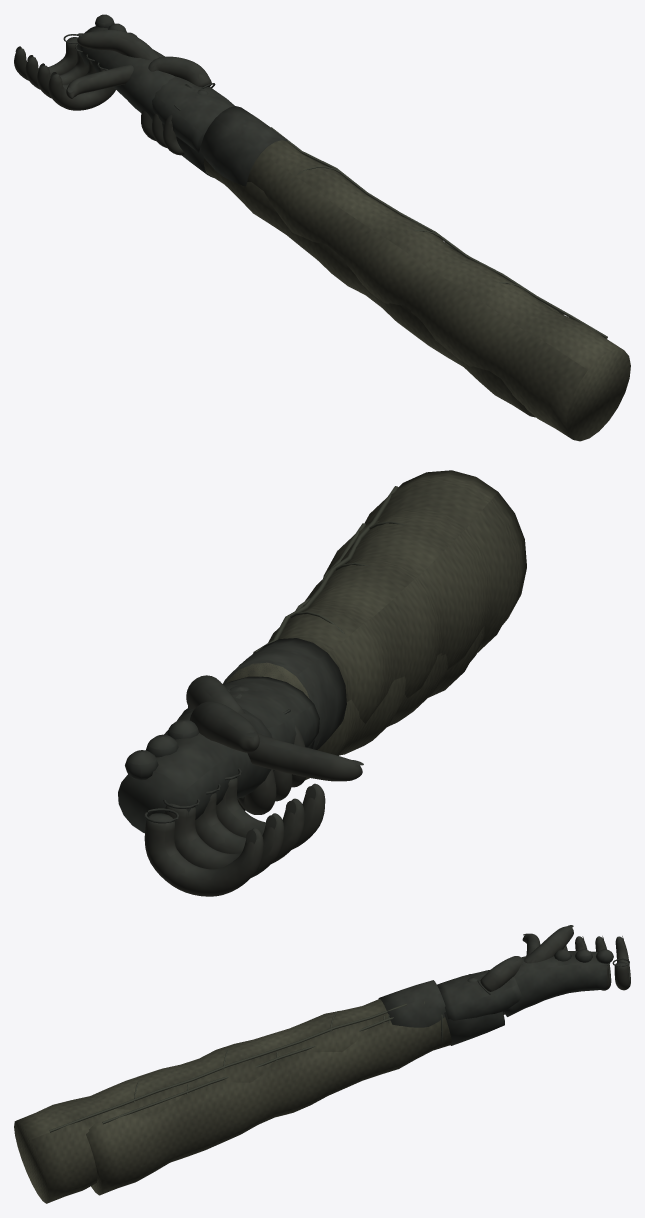
The model's file is anime-karambit-hand.glb.
The picture shows the model from 3 angles, top to bottom: view 1: azimuth 30°, elevation 25°; view 2: azimuth 150°, elevation 25°; view 3: azimuth 270°, elevation 25°; orthographic projection. The views are drawn at different scales.
Visible parts, largest first — view 1: rightHand_Soft ivory field sleeve, attackHand_Soft ivory field sleeve, attackHand_Warm exposed fingers, rightHand_Teal glove binding, rightHand_Tailored graphite glove, rightHand_Warm exposed fingers, attackHand_Tailored graphite glove, rightHand_Ivory tailored stitching, attackHand_Teal glove binding; view 2: rightHand_Soft ivory field sleeve, attackHand_Warm exposed fingers, attackHand_Tailored graphite glove, rightHand_Warm exposed fingers, attackHand_Soft ivory field sleeve, rightHand_Teal glove binding, rightHand_Tailored graphite glove, attackHand_Teal glove binding, rightHand_Ivory tailored stitching; view 3: attackHand_Soft ivory field sleeve, rightHand_Soft ivory field sleeve, attackHand_Tailored graphite glove, rightHand_Tailored graphite glove, rightHand_Teal glove binding, attackHand_Warm exposed fingers, attackHand_Teal glove binding, rightHand_Ivory tailored stitching, rightHand_Warm exposed fingers, attackHand_Ivory tailored stitching.
Part boxes in pixels (x1,y1,x2,y2): rightHand_Soft ivory field sleeve: (247,140,630,441); attackHand_Soft ivory field sleeve: (203,158,560,417); attackHand_Warm exposed fingers: (14,29,159,110); rightHand_Teal glove binding: (174,83,287,186); rightHand_Tailored graphite glove: (152,76,234,152); rightHand_Warm exposed fingers: (66,56,211,155); attackHand_Tailored graphite glove: (77,26,174,120); rightHand_Ivory tailored stitching: (270,127,607,338); attackHand_Teal glove binding: (63,14,208,175); rightHand_Soft ivory field sleeve: (226,470,526,723); attackHand_Warm exposed fingers: (144,701,325,896); attackHand_Tailored graphite glove: (118,709,274,833); rightHand_Warm exposed fingers: (186,675,362,814); attackHand_Soft ivory field sleeve: (237,521,484,808); rightHand_Teal glove binding: (188,638,346,749); rightHand_Tailored graphite glove: (177,676,319,747); attackHand_Teal glove binding: (125,676,314,823); rightHand_Ivory tailored stitching: (253,486,405,653); attackHand_Soft ivory field sleeve: (86,1017,451,1195); rightHand_Soft ivory field sleeve: (14,999,390,1203); attackHand_Tailored graphite glove: (504,951,606,1016); rightHand_Tailored graphite glove: (437,969,522,1020); rightHand_Teal glove binding: (378,974,490,1027); attackHand_Warm exposed fingers: (524,926,630,990); attackHand_Teal glove binding: (439,949,629,1045); rightHand_Ivory tailored stitching: (49,1003,406,1132); rightHand_Warm exposed fingers: (480,933,540,1014); attackHand_Ivory tailored stitching: (102,1016,393,1124).
Bounding box in the file's own units: 0.3021 × 0.2363 × 0.6762.
7 materials, 5 textured.
